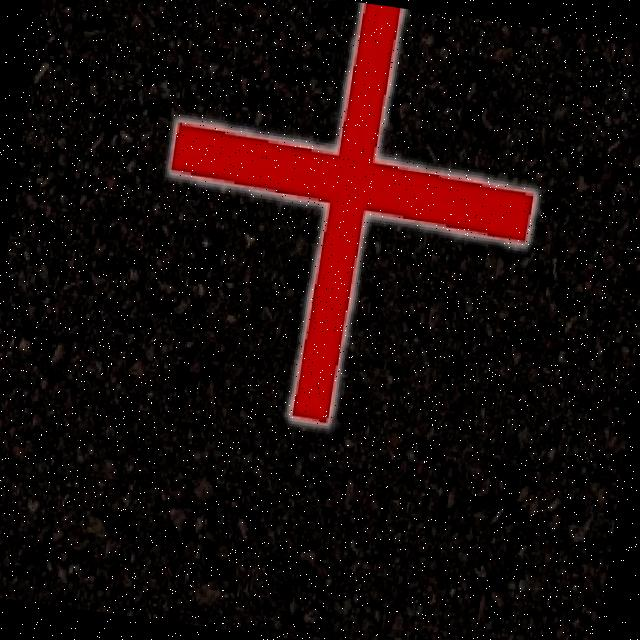x_marker: (139, 0, 558, 445)
